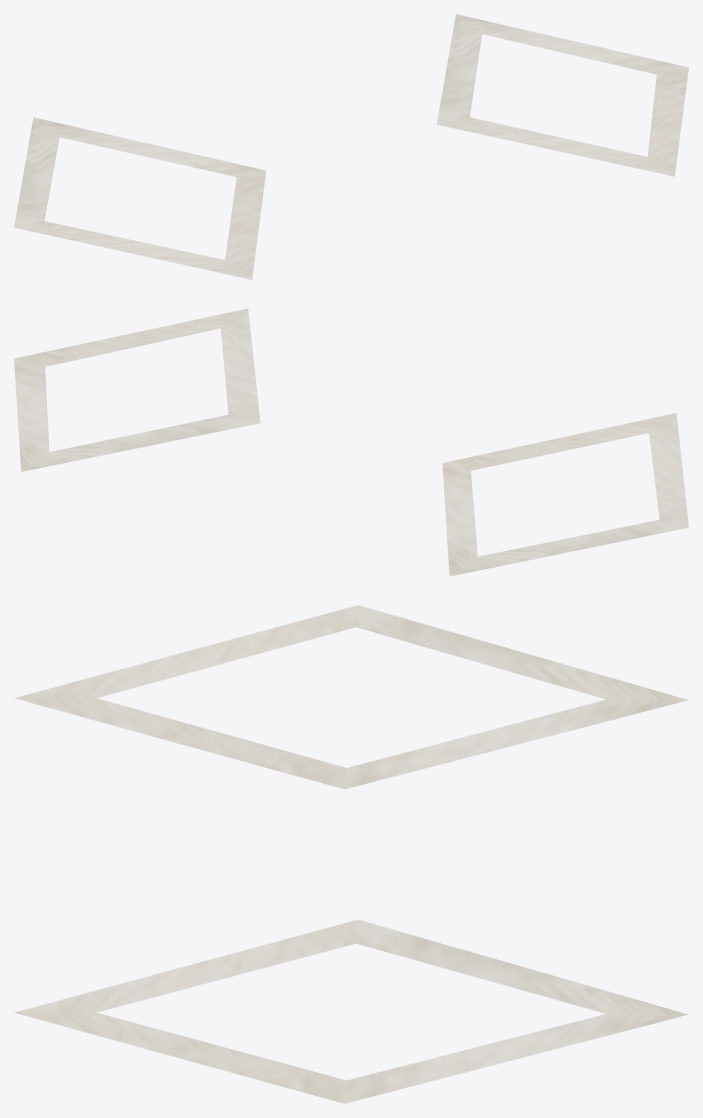
Rendered from a_SExing03.glb.
3 views of the same model, one above another, from view 1: azimuth 30°, elevation 25°; view 2: azimuth 150°, elevation 25°; view 3: azimuth 270°, elevation 25° (orthographic). The views are drawn at different scales.
Parts seen in each view (by area): view 1: a_SExing03; view 2: a_SExing03; view 3: a_SExing03.
Boxes of the visible parts, left/top/right/bottom form: a_SExing03: left=14, top=14, right=688, bottom=279; a_SExing03: left=14, top=308, right=688, bottom=576; a_SExing03: left=14, top=605, right=688, bottom=1103.
Size of the model in its own units: 4.81 by 0 by 2.75.
Materials: 1 (1 with a texture image).
